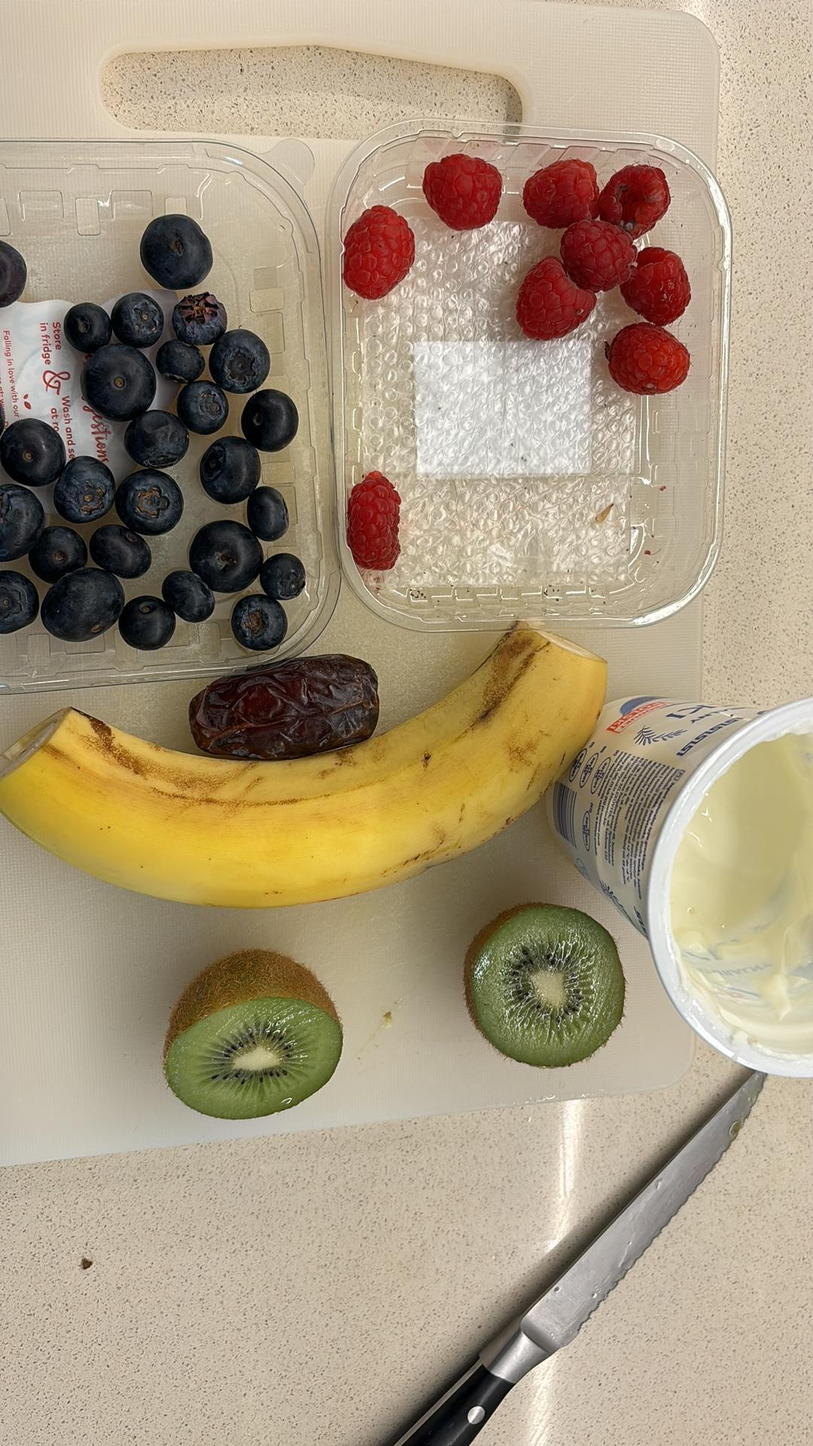banana: (1, 621, 622, 907)
blueberry: (37, 570, 119, 645), (81, 341, 154, 424), (139, 209, 210, 292), (192, 521, 263, 595), (115, 468, 178, 541), (0, 412, 63, 485), (121, 412, 195, 471), (204, 439, 266, 508), (55, 450, 111, 525), (0, 481, 49, 563), (88, 522, 151, 580), (242, 391, 300, 453), (230, 593, 291, 650), (28, 525, 82, 583), (214, 328, 263, 390), (109, 288, 162, 345), (121, 597, 178, 650), (58, 300, 114, 351), (178, 379, 227, 436), (155, 337, 207, 388), (180, 378, 228, 433), (164, 572, 215, 619), (244, 482, 290, 534), (172, 296, 225, 339), (157, 341, 208, 383), (0, 572, 30, 636), (266, 551, 304, 601), (0, 238, 22, 308)
kiwi: (163, 946, 346, 1123), (465, 901, 626, 1069)
raspberry: (340, 466, 406, 574), (339, 205, 417, 295), (419, 151, 503, 230), (606, 320, 687, 395), (524, 154, 598, 224), (556, 217, 635, 282), (527, 258, 588, 338), (604, 164, 671, 233), (625, 252, 694, 316)
